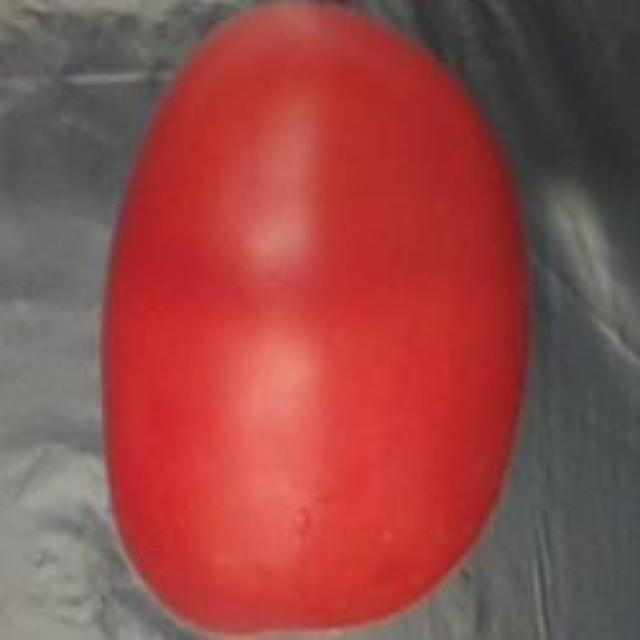ripe tomato: (94, 2, 543, 640)
